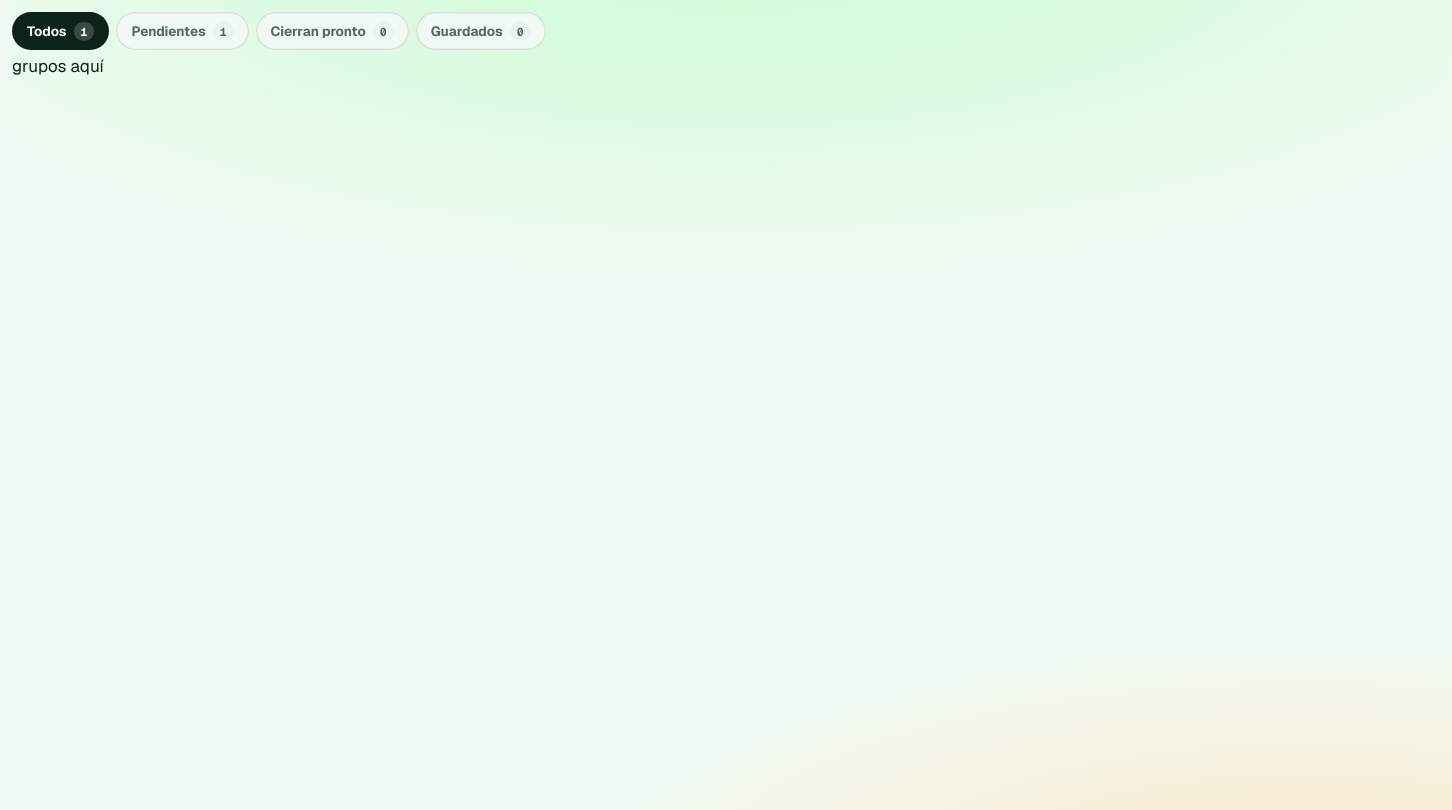
FilteredGroupsOrEmpty — Cierran pronto filter with 0 matches › shows EmptyState with cierran-pronto message when count is 0
The width and height of the screenshot is (1452, 810).
Click the button "Cierran pronto 0": click(332, 31) [256,12,409,50]
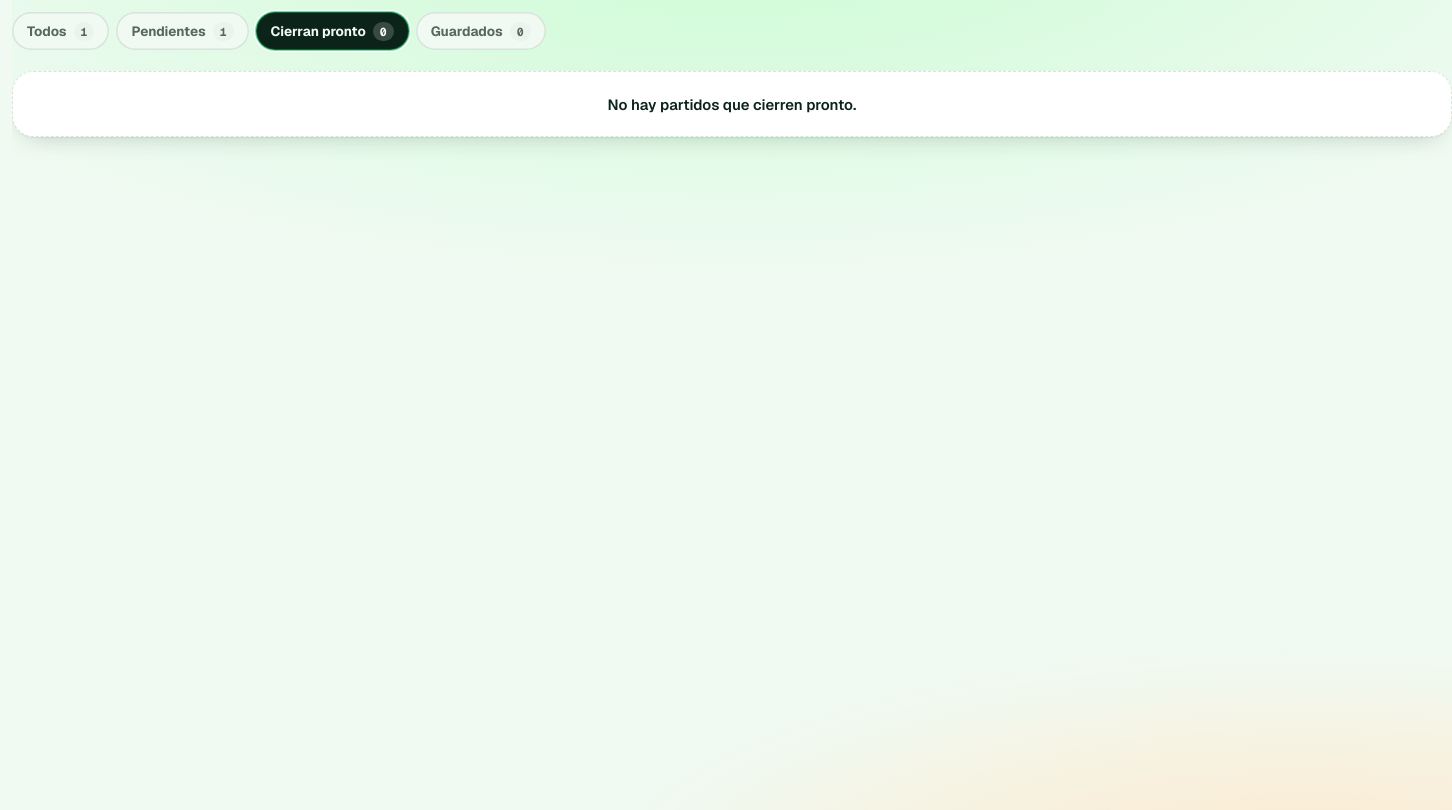
Now the text "No hay partidos que cierren pronto." is shown, box [608,94,856,114]
